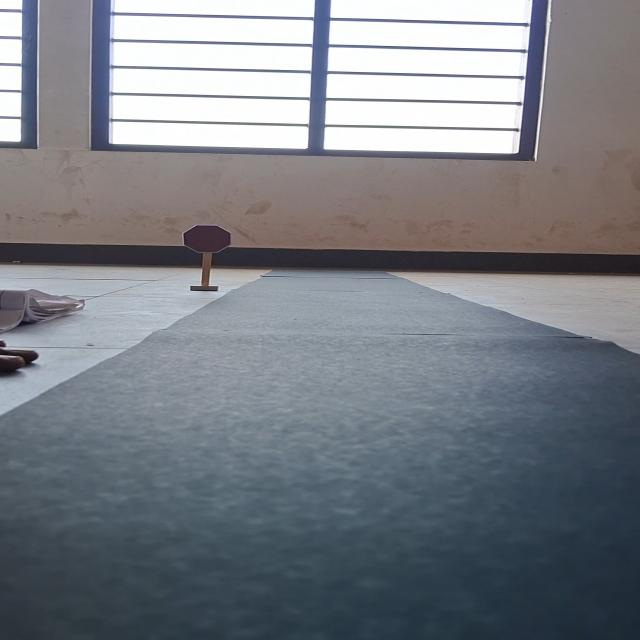Stop: (183, 224, 232, 253)
